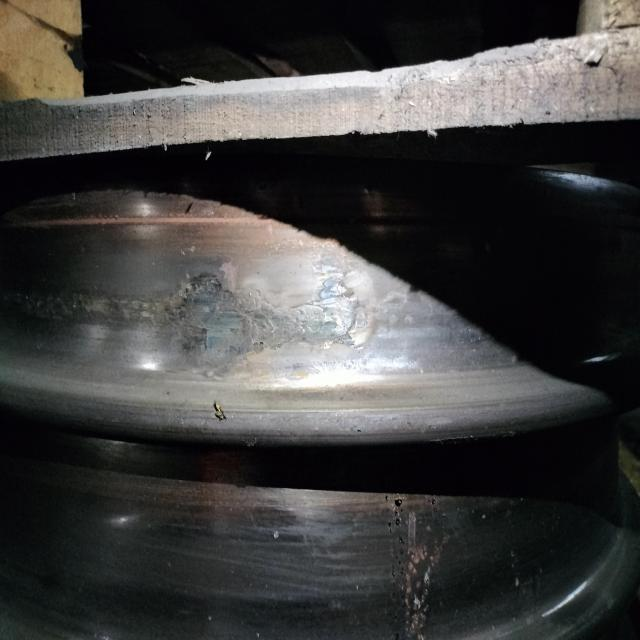flat: (61, 258, 390, 371)
